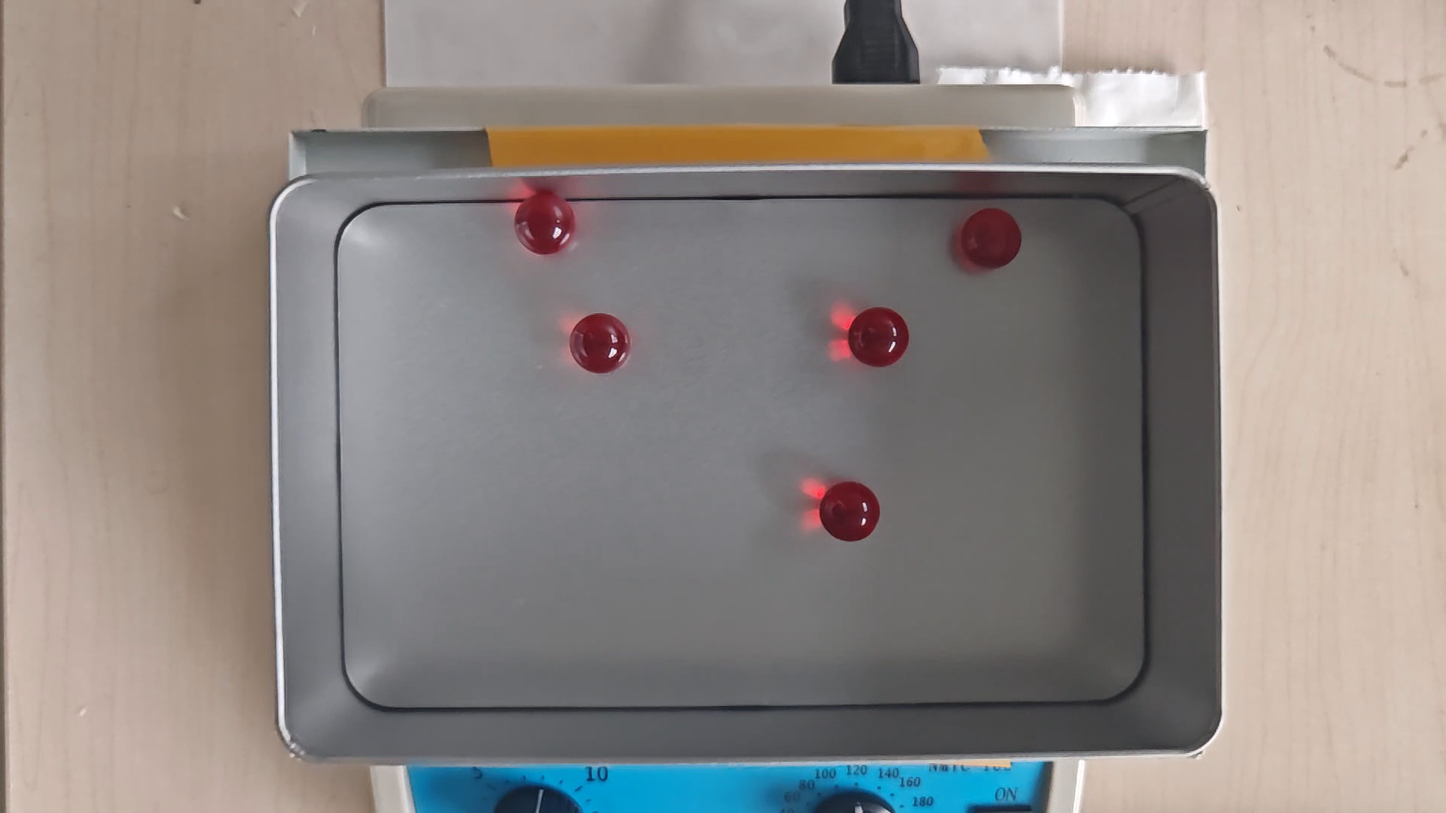ball: (508, 193, 576, 259), (960, 206, 1022, 272), (819, 481, 880, 544), (572, 312, 630, 377), (849, 309, 911, 368)
container: (339, 196, 1145, 708)
